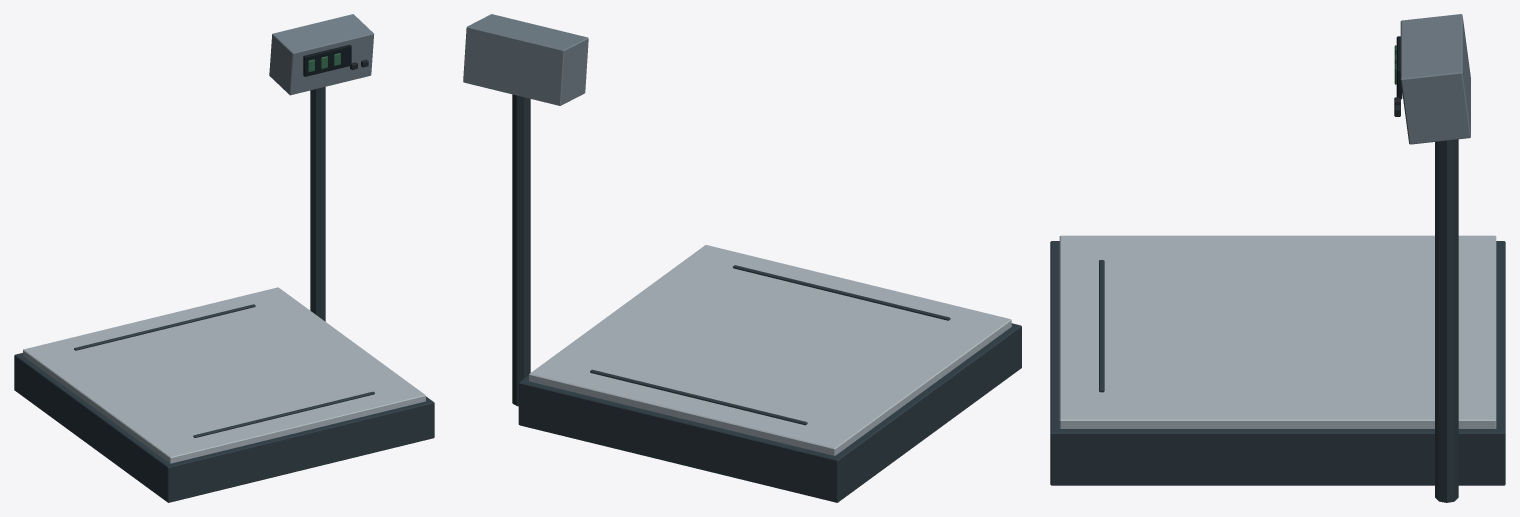
Rendered from b14_floor_pallet_weighing_scale.glb.
3 views of the same model, side by side, from view 1: azimuth 30°, elevation 25°; view 2: azimuth 150°, elevation 25°; view 3: azimuth 270°, elevation 25° (orthographic). The views are drawn at different scales.
Visible parts, largest first — view 1: b14_floor_pallet_weighing_scale; view 2: b14_floor_pallet_weighing_scale; view 3: b14_floor_pallet_weighing_scale.
Part boxes in pixels (x1=…): b14_floor_pallet_weighing_scale: x1=14, y1=14, x2=434, y2=502; b14_floor_pallet_weighing_scale: x1=463, y1=14, x2=1021, y2=502; b14_floor_pallet_weighing_scale: x1=1050, y1=14, x2=1505, y2=502.
Bounding box in the file's own units: 1.51 × 1.37 × 1.24.
